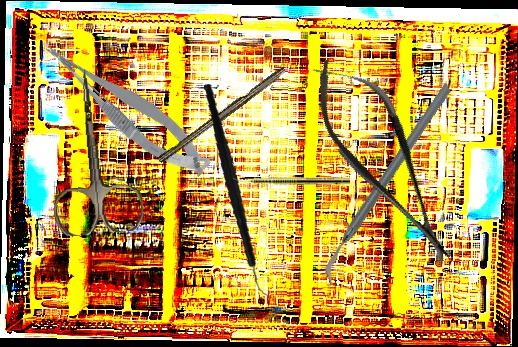Chopper: (271, 80, 505, 287), (182, 83, 296, 302)
Handpiece: (233, 176, 350, 185)
Iris Scissors: (42, 66, 145, 238)
Micro Scissor: (294, 42, 474, 280), (38, 22, 217, 193)
Scalpel Handle: (156, 64, 289, 168)
